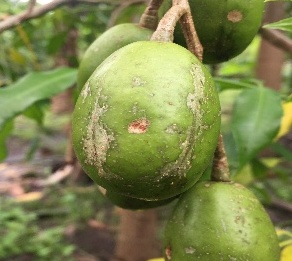Coc: (59, 51, 239, 207)
